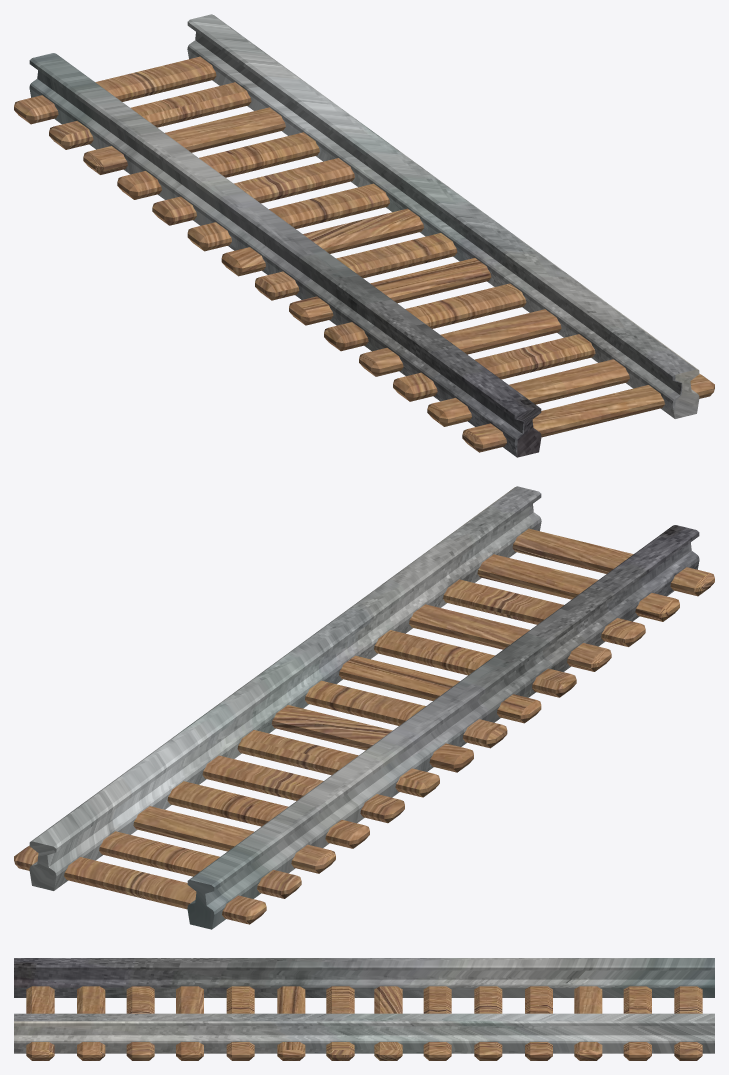
Rendered from rail.obj.
3 renders of one model, top to bottom at view 1: azimuth 30°, elevation 25°; view 2: azimuth 150°, elevation 25°; view 3: azimuth 270°, elevation 25°, orthographic. The views are drawn at different scales.
Parts seen in each view (by area): view 1: Railroad113; view 2: Railroad113; view 3: Railroad113.
Part boxes in pixels (box(x1,y1,x2,y2)): Railroad113: box(14, 14, 714, 457); Railroad113: box(14, 486, 714, 929); Railroad113: box(14, 958, 714, 1060).
Size of the model in its own units: 1.03 by 0.1816 by 3.59.
1 material, 1 textured.
